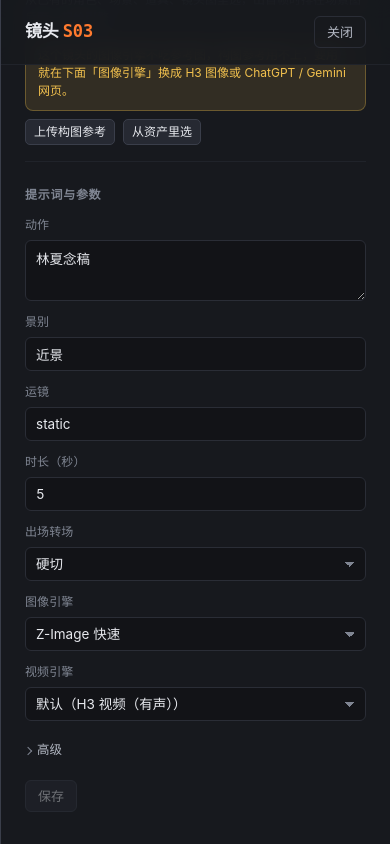
Test case: ShotDrawer 资产 › 保存的引擎不吃参考图、草稿换回能吃的项目默认：不提示
The image size is (390, 844).
(page scrolled)
Check: the text with test id "refs-unsupported" is shown, box [25,35,366,111]
Select "默认（Gemini 网页）" in the dropdown labelled "图像引擎" at (196, 634), box [25,617,366,651]
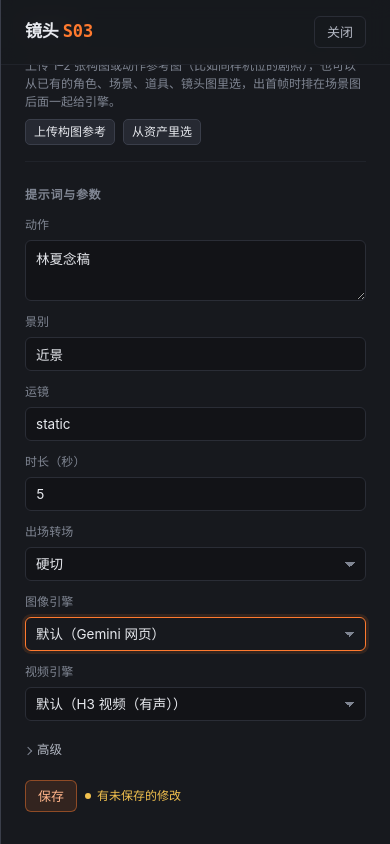
Check: the text with test id "refs-unsupported" is gone
